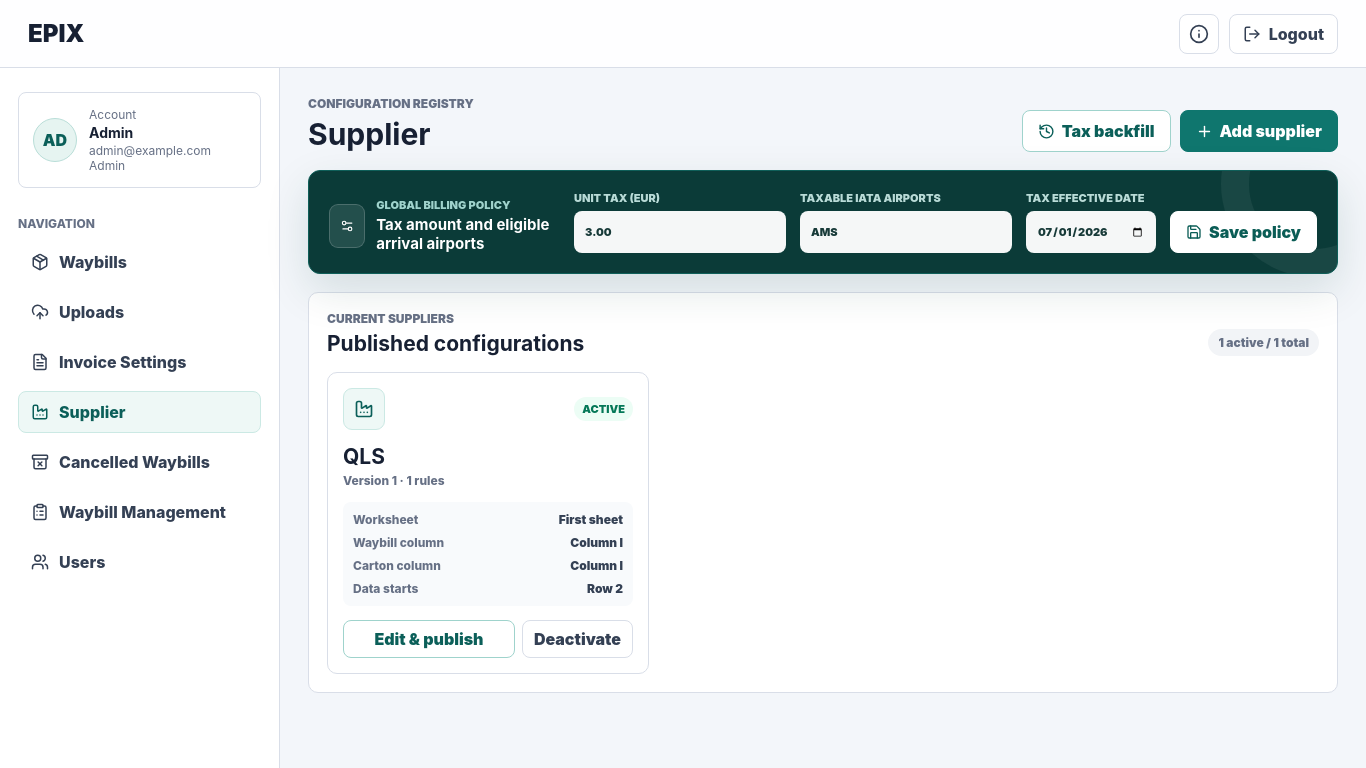
Test: SuppliersPage › processes and summarizes retroactive customs deductions
Click the button "Tax backfill" at coordinates (1096, 131), box left=1022, top=110, right=1171, bottom=152
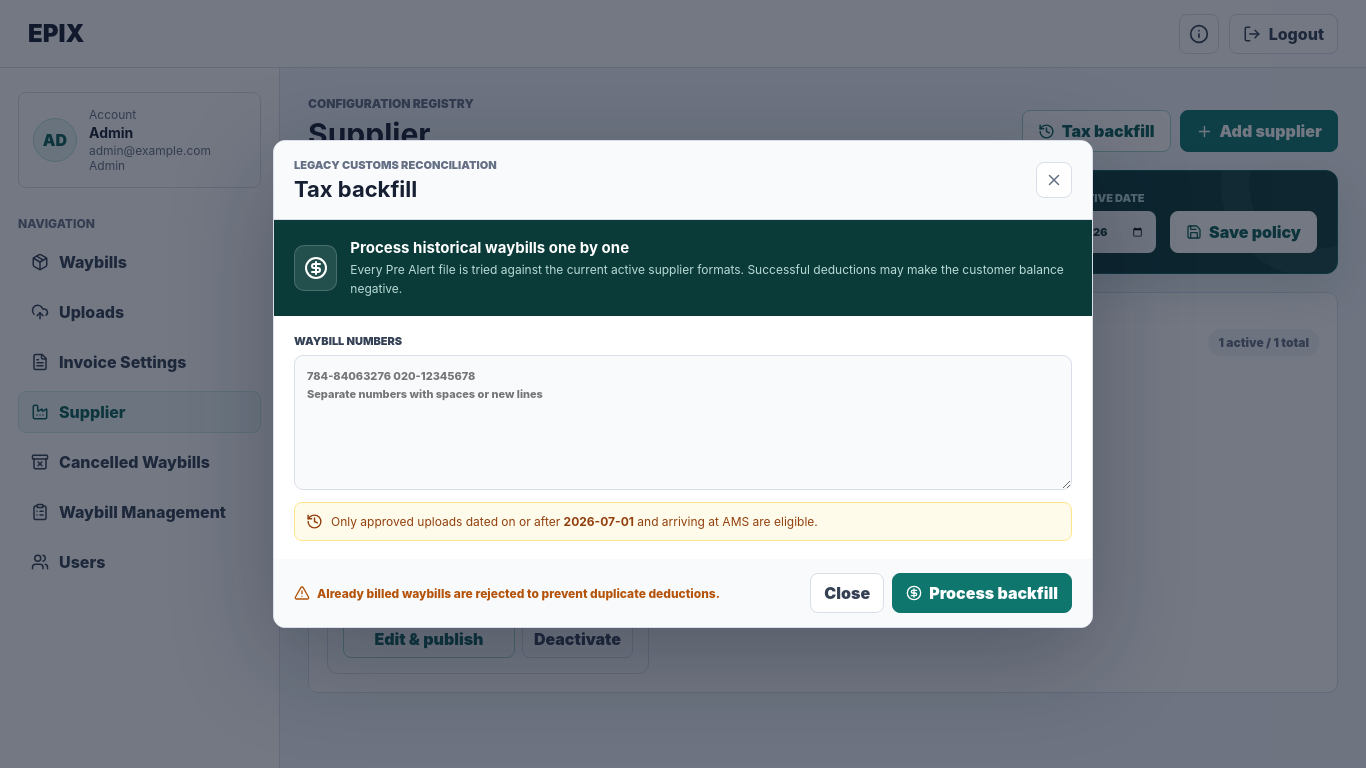
Replace the text in the text box labelled "Waybill numbers" with "784-84063276 MISSING-1" at coordinates (683, 423), box left=294, top=355, right=1072, bottom=490
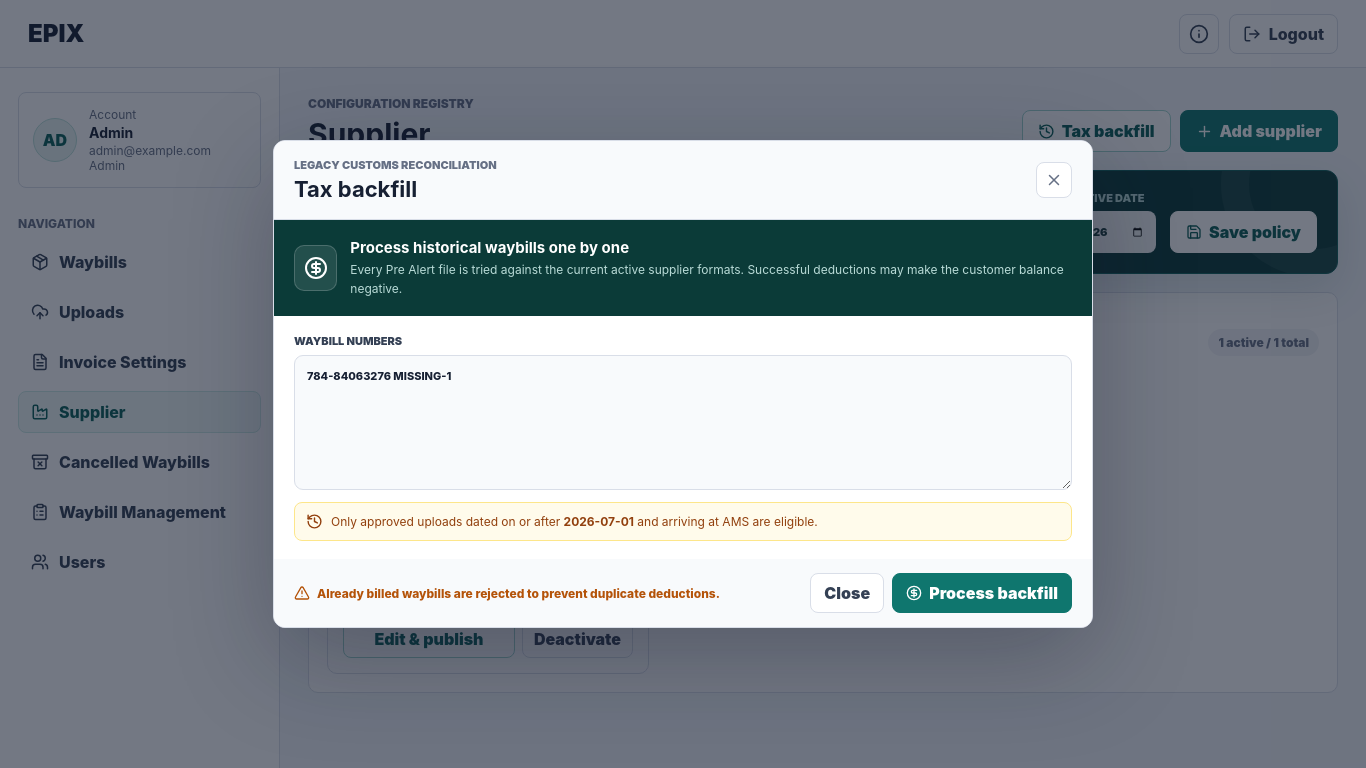
Click the button "Process backfill" at coordinates (982, 593), box left=892, top=573, right=1072, bottom=613
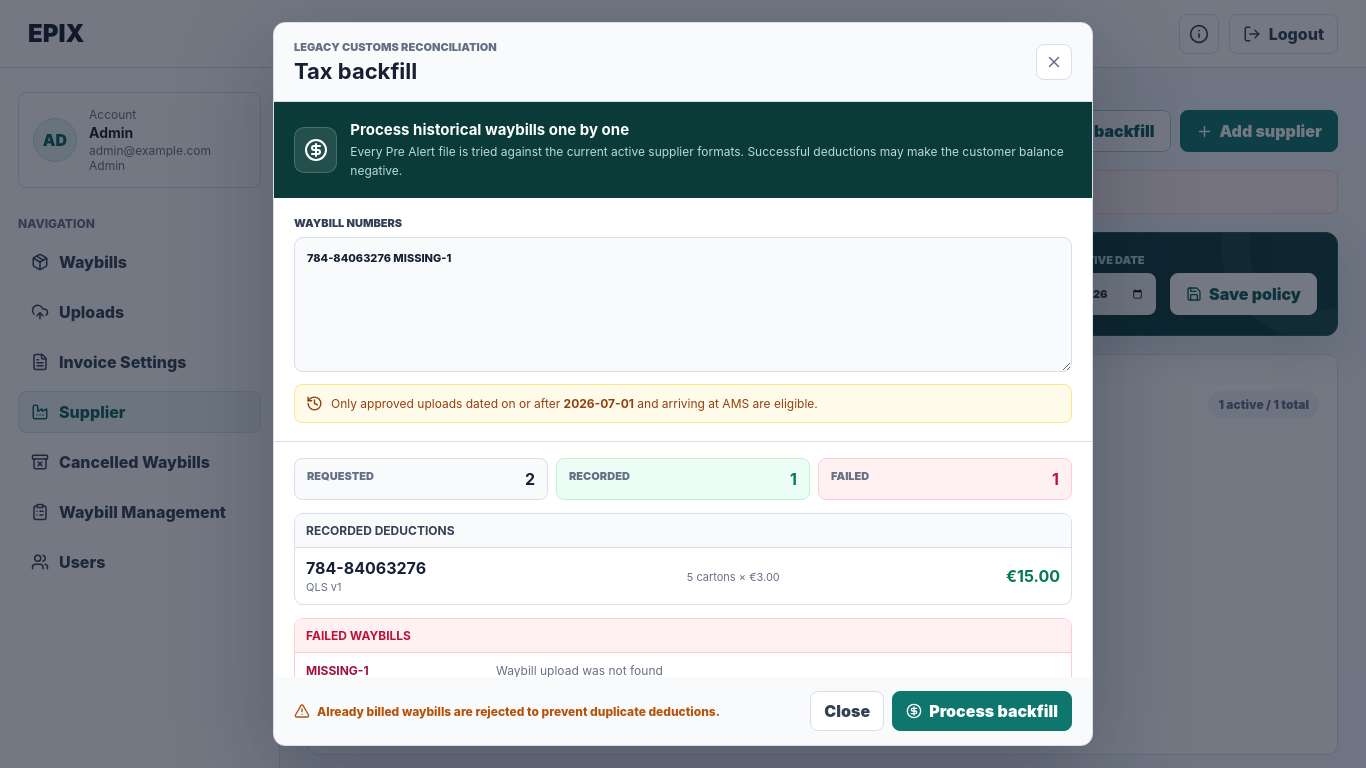
Check: the heading "Recorded deductions" is shown, box left=295, top=514, right=1071, bottom=548
Check: the text "Waybill upload was not found" is shown, box left=496, top=663, right=663, bottom=678
Check: the text "€15.00" is shown, box left=1006, top=566, right=1060, bottom=586
